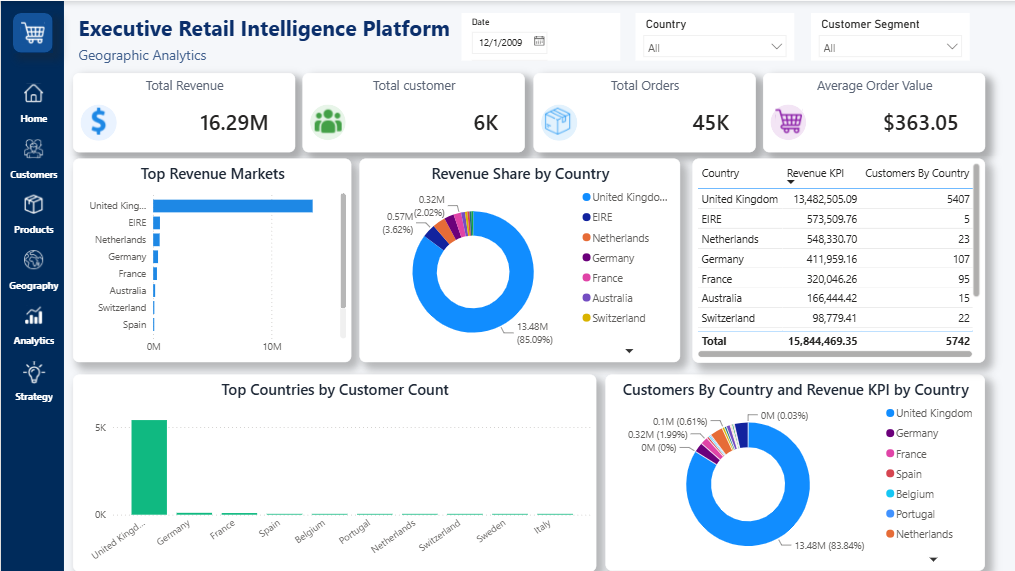

Layout of this report page (visuals, bound fields, positions):
{"tool":"powerbi","page":{"name":"Geographic Analytics","canvas":[1280,720],"ordinal":3},"visuals":[{"type":"cardVisual","title":"Total Revenue","fields":{"Data":["Customer_Summary.Revenue KPI"]},"box":[90,90,280,100],"z":0},{"type":"cardVisual","title":"Total customer","fields":{"Data":["Customer_Summary.Total Customers"]},"box":[380,90,280,100],"z":1000},{"type":"cardVisual","title":"Total Orders","fields":{"Data":["Customer_Summary.Orders KPI"]},"box":[670,90,280,100],"z":2000},{"type":"cardVisual","title":"Average Order Value","fields":{"Data":["Fact_Sales.Average Order Value"]},"box":[960,90,280,100],"z":3000},{"type":"clusteredBarChart","title":"Top Revenue Markets","fields":{"Category":["Fact_Sales.Country"],"Y":["Customer_Summary.Revenue KPI"]},"box":[91.6,199.2,350.5,256.9],"z":4000},{"type":"donutChart","title":"Revenue Share by Country","fields":{"Category":["Fact_Sales.Country"],"Y":["Customer_Summary.Revenue KPI"]},"box":[452.1,199.2,404.3,256.9],"z":5000},{"type":"clusteredColumnChart","title":"Top Countries by Customer Count","fields":{"Category":["Fact_Sales.Country"],"Y":["Customer_Summary.Customers By Country"]},"box":[91.6,470,659.3,249],"z":6000},{"type":"donutChart","fields":{"Category":["Fact_Sales.Country"],"Y":["Customer_Summary.Customers By Country","Customer_Summary.Revenue KPI"]},"box":[761.6,470.6,478.1,247.6],"z":7000},{"type":"tableEx","fields":{"Values":["Fact_Sales.Country","Customer_Summary.Revenue KPI","Customer_Summary.Customers By Country"]},"box":[871.2,198.4,368.5,257],"z":8000},{"type":"shape","box":[0,0,79.4,720],"z":9000},{"type":"actionButton","box":[15,15,50,50],"z":10000},{"type":"actionButton","box":[4,100,75,60],"z":11000},{"type":"actionButton","box":[4,170,75,60],"z":12000},{"type":"actionButton","box":[4,240,75,60],"z":13000},{"type":"actionButton","box":[4,310,75,60],"z":14000},{"type":"actionButton","box":[4,380,75,60],"z":15000},{"type":"textbox","title":"Executive Retail Intelligence Platform","box":[92.6,15.1,498.9,64.3],"z":16000},{"type":"slicer","fields":{"Values":["DateTable.Date"]},"box":[580,15.1,200,60],"z":17000},{"type":"slicer","fields":{"Values":["Fact_Sales.Country"]},"box":[800,15.1,200,60],"z":18000},{"type":"slicer","fields":{"Values":["Customer_Summary.Customer Segment"]},"box":[1020,15.1,200,60],"z":19000},{"type":"shape","box":[100,130,45.8,45.8],"z":20000},{"type":"actionButton","box":[101.6,131,42,42],"z":21000},{"type":"shape","box":[680,130,45.8,45.8],"z":22000},{"type":"shape","box":[390,130,45,45],"z":23000},{"type":"actionButton","box":[391,131,42,42],"z":24000},{"type":"actionButton","box":[681,131,42,42],"z":25000},{"type":"shape","box":[970,130,45,45],"z":26000},{"type":"actionButton","box":[971,131,42,42],"z":27000},{"type":"actionButton","box":[4,450,75.6,60.5],"z":27001}]}

Visuals, with their boxes on the page's 1280x720 design canvas (x1, y1, x2, y2). These are canvas units, not pixel positions in the 1015x571 screenshot, which may show the page scaled, cropped or inside an application window:
"Total Revenue" cardVisual: (90, 90, 370, 190)
"Total customer" cardVisual: (380, 90, 660, 190)
"Total Orders" cardVisual: (670, 90, 950, 190)
"Average Order Value" cardVisual: (960, 90, 1240, 190)
"Top Revenue Markets" clusteredBarChart: (92, 199, 442, 456)
"Revenue Share by Country" donutChart: (452, 199, 856, 456)
"Top Countries by Customer Count" clusteredColumnChart: (92, 470, 751, 719)
donutChart - Fact_Sales.Country x Customer_Summary.Customers By Country: (762, 471, 1240, 718)
tableEx - Fact_Sales.Country x Customer_Summary.Revenue KPI: (871, 198, 1240, 455)
shape: (0, 0, 79, 720)
actionButton: (15, 15, 65, 65)
actionButton: (4, 100, 79, 160)
actionButton: (4, 170, 79, 230)
actionButton: (4, 240, 79, 300)
actionButton: (4, 310, 79, 370)
actionButton: (4, 380, 79, 440)
"Executive Retail Intelligence Platform" textbox: (93, 15, 592, 79)
slicer - DateTable.Date: (580, 15, 780, 75)
slicer - Fact_Sales.Country: (800, 15, 1000, 75)
slicer - Customer_Summary.Customer Segment: (1020, 15, 1220, 75)
shape: (100, 130, 146, 176)
actionButton: (102, 131, 144, 173)
shape: (680, 130, 726, 176)
shape: (390, 130, 435, 175)
actionButton: (391, 131, 433, 173)
actionButton: (681, 131, 723, 173)
shape: (970, 130, 1015, 175)
actionButton: (971, 131, 1013, 173)
actionButton: (4, 450, 80, 510)
